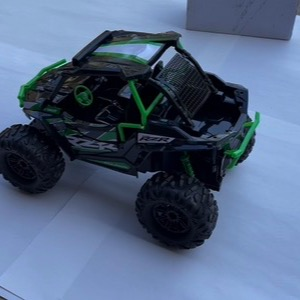polaris: (1, 29, 261, 252)
